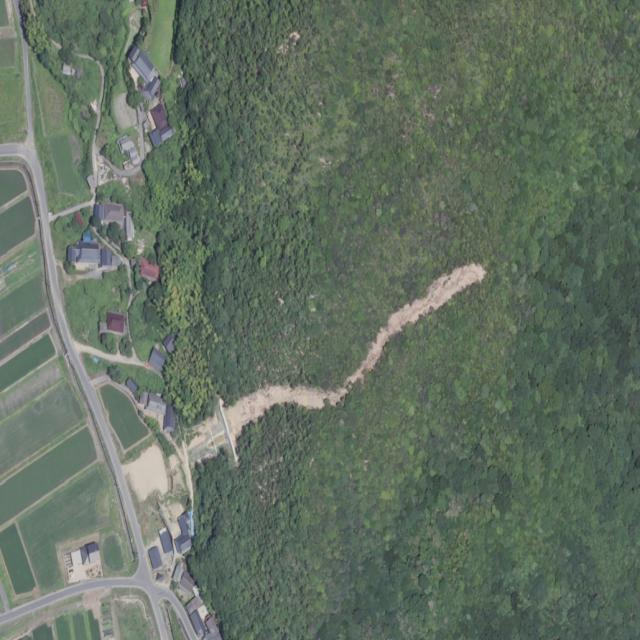landslide: (225, 263, 487, 442)
